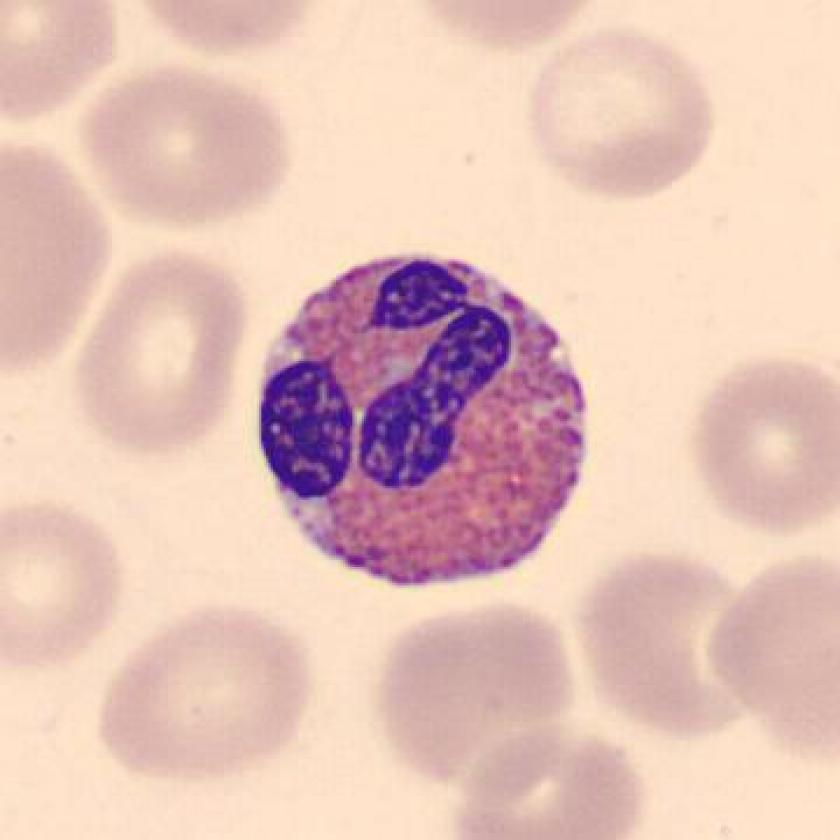eosinophil: (244, 235, 601, 607)
